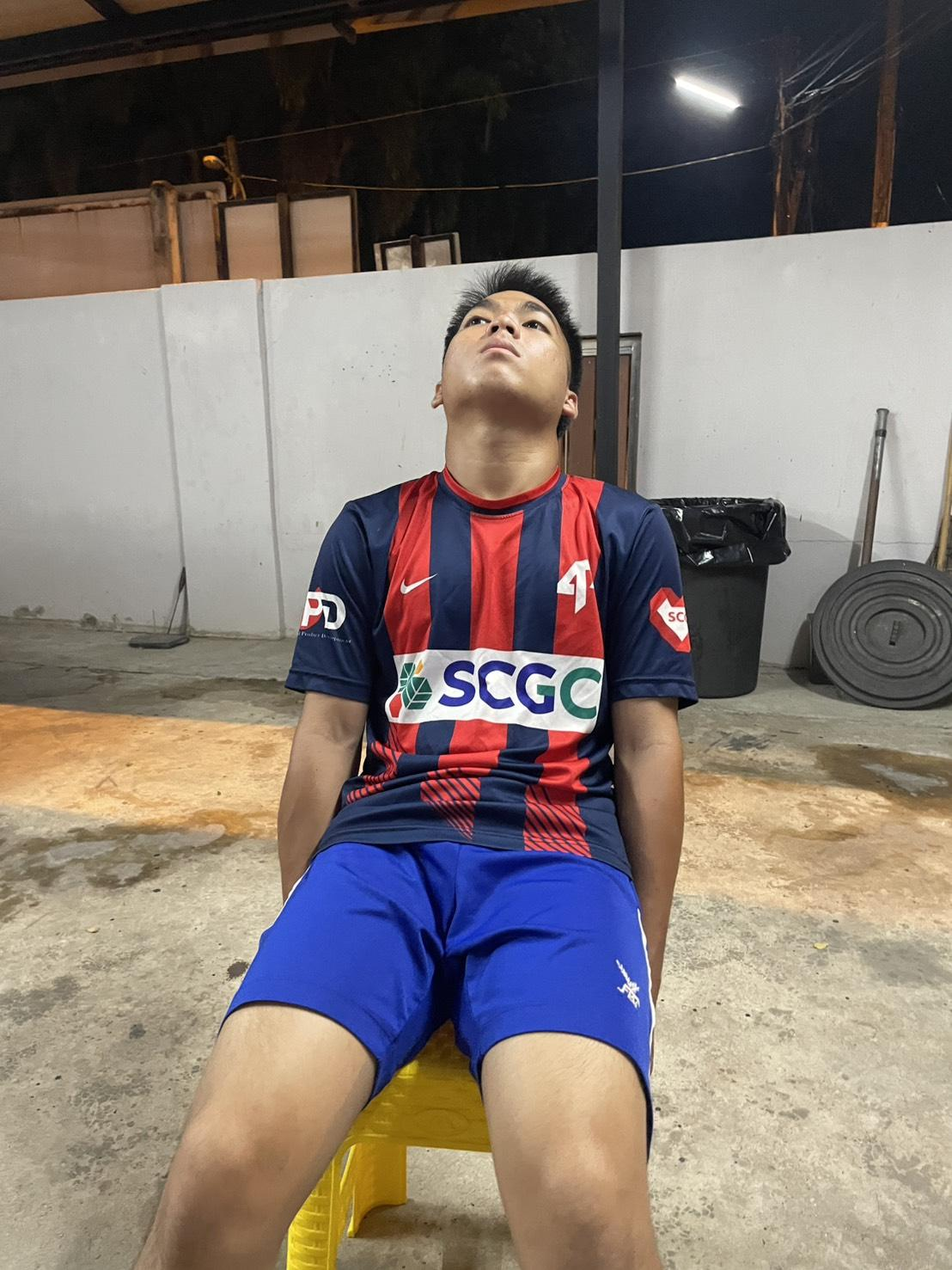BadPosture: (279, 264, 696, 893)
